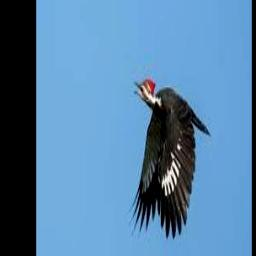Woodpecker: (129, 77, 211, 241)
